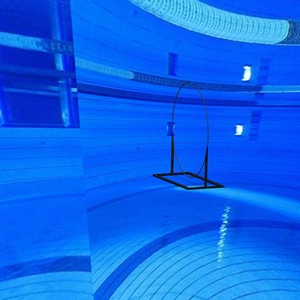circle: (152, 80, 227, 194)
